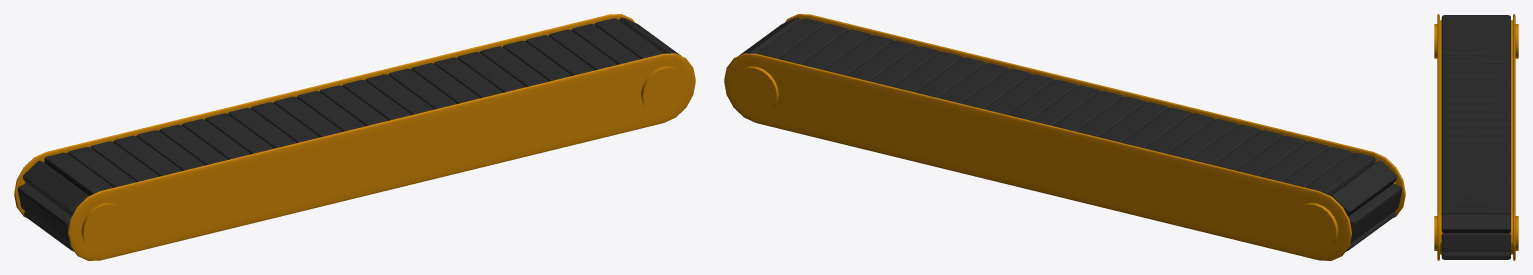
File: Conveyor.fbx
3 views of the same model, side by side, from view 1: azimuth 30°, elevation 25°; view 2: azimuth 150°, elevation 25°; view 3: azimuth 270°, elevation 25° (orthographic). The views are drawn at different scales.
Parts seen in each view (by area): view 1: pCylinder78, MASH1_ReproMesh; view 2: pCylinder78, MASH1_ReproMesh; view 3: MASH1_ReproMesh, pCylinder78.
Part boxes in pixels (x1,y1,x2,y2): pCylinder78: (14,14,695,260); MASH1_ReproMesh: (17,17,680,251); pCylinder78: (724,14,1405,260); MASH1_ReproMesh: (739,17,1402,251); MASH1_ReproMesh: (1441,15,1510,259); pCylinder78: (1434,14,1518,260).
Size of the model in its own units: 198 by 20.94 by 32.62.
